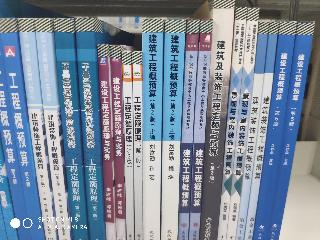book-spine: (264, 20, 313, 240), (252, 20, 297, 240), (0, 17, 44, 240), (197, 0, 234, 240), (18, 17, 57, 240), (233, 20, 270, 240), (37, 18, 72, 240), (244, 22, 279, 240), (215, 7, 247, 240), (226, 7, 258, 240), (55, 19, 88, 240), (157, 19, 186, 240), (77, 18, 104, 239), (140, 19, 163, 240), (189, 19, 212, 240), (176, 19, 199, 239), (98, 45, 116, 239), (111, 45, 125, 239), (122, 52, 134, 239), (133, 52, 142, 239)
